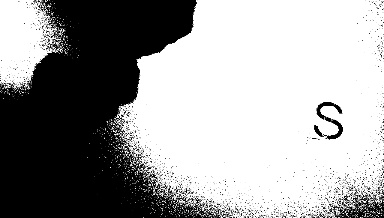S: (309, 95, 348, 142)
